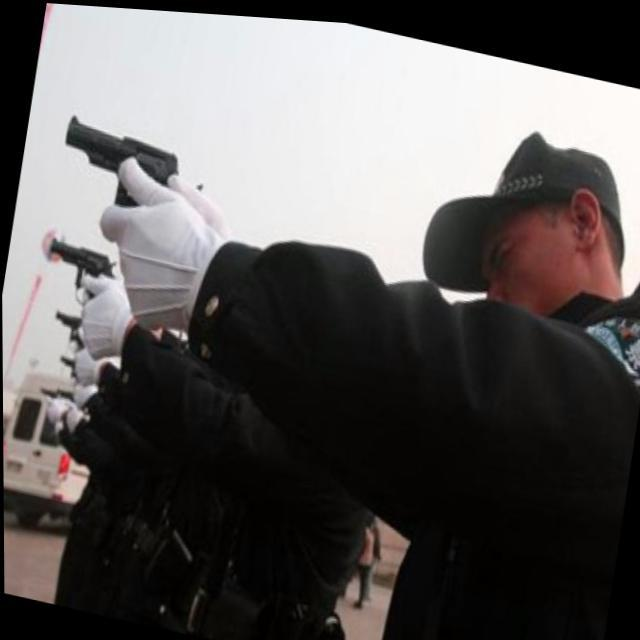weapon: (54, 107, 190, 222), (40, 225, 124, 306), (51, 306, 95, 352), (40, 388, 82, 411), (58, 352, 88, 379)
